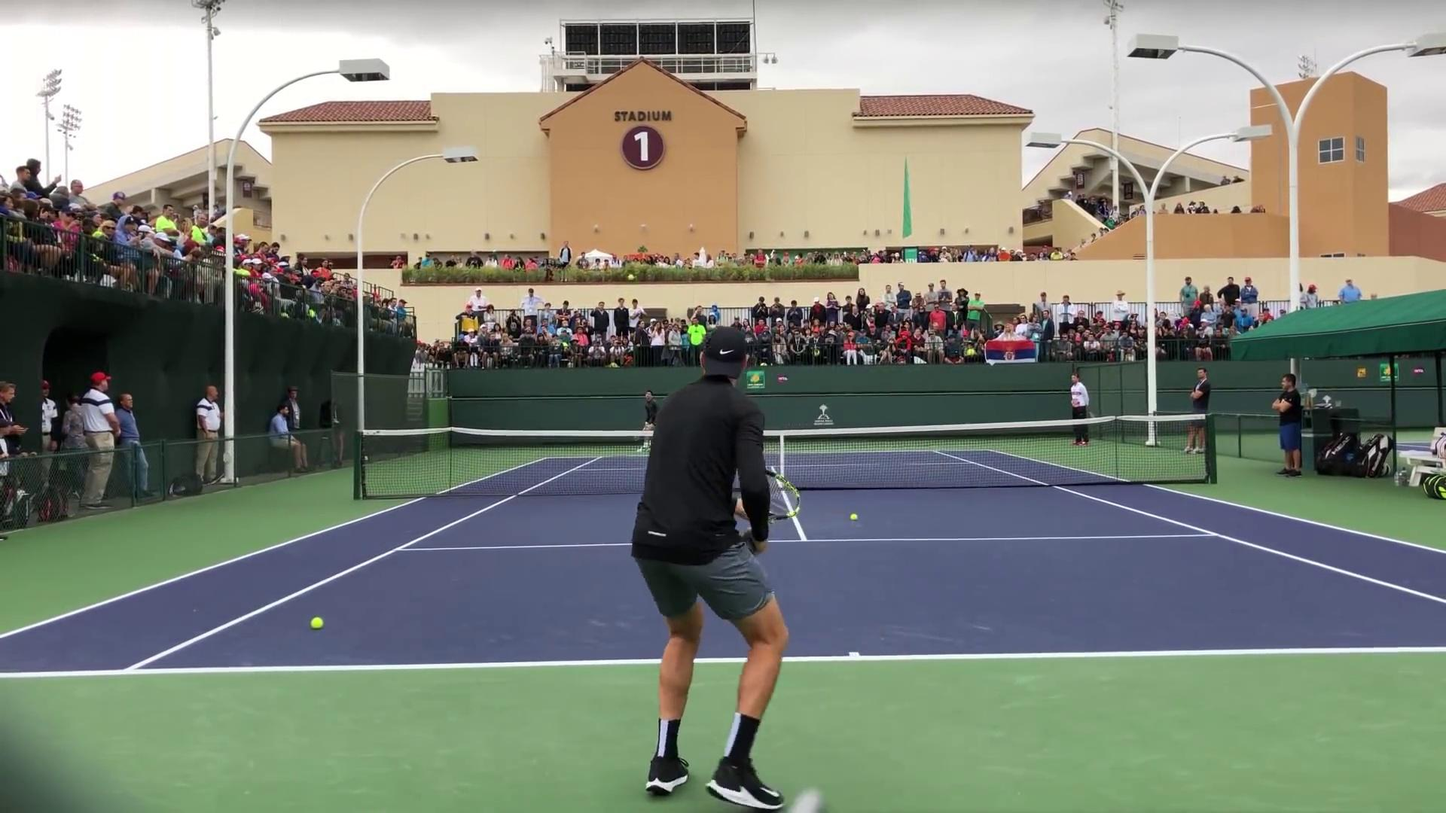ball: (310, 614, 324, 630), (849, 512, 859, 521), (721, 353, 723, 356)
